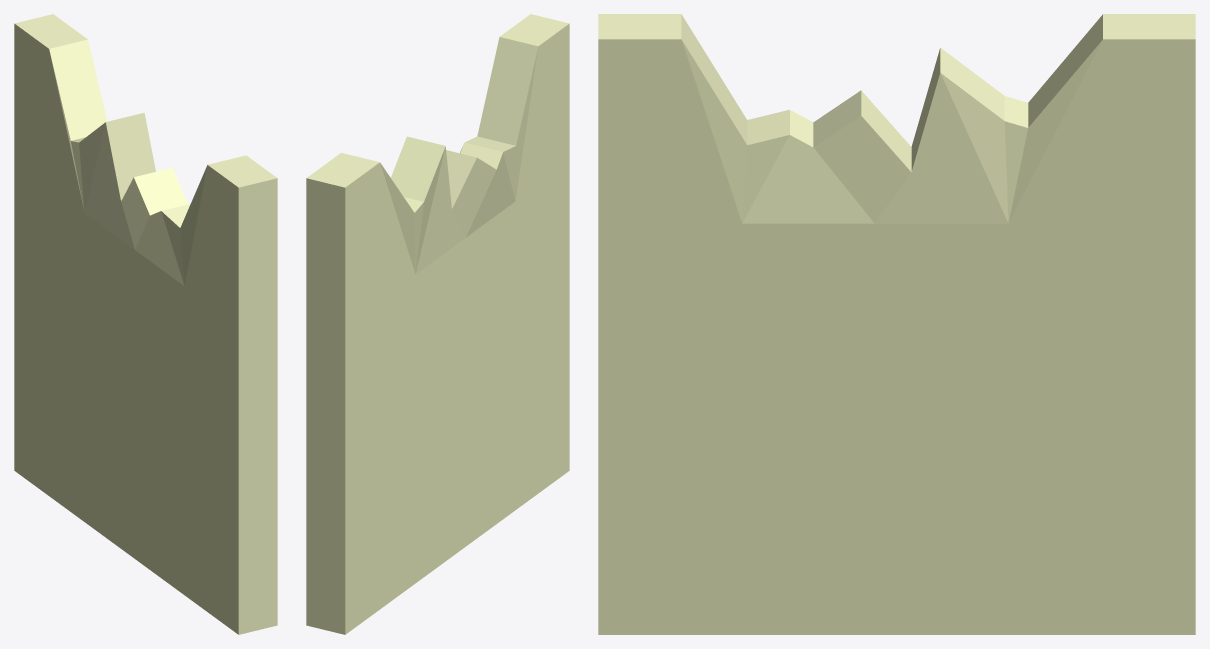
File: SM_WallBroken_1.fbx
3 renders of one model, left to right at view 1: azimuth 30°, elevation 25°; view 2: azimuth 150°, elevation 25°; view 3: azimuth 270°, elevation 25°, orthographic. The views are drawn at different scales.
Visible parts, largest first — view 1: SM_BaceWall1; view 2: SM_BaceWall1; view 3: SM_BaceWall1.
Boxes of the visible parts, box(x1,y1,x2,y2) form: SM_BaceWall1: box(14, 14, 277, 634); SM_BaceWall1: box(306, 14, 569, 634); SM_BaceWall1: box(598, 14, 1195, 634).
Size of the model in its own units: 0.00241 by 0.022 by 0.02.
